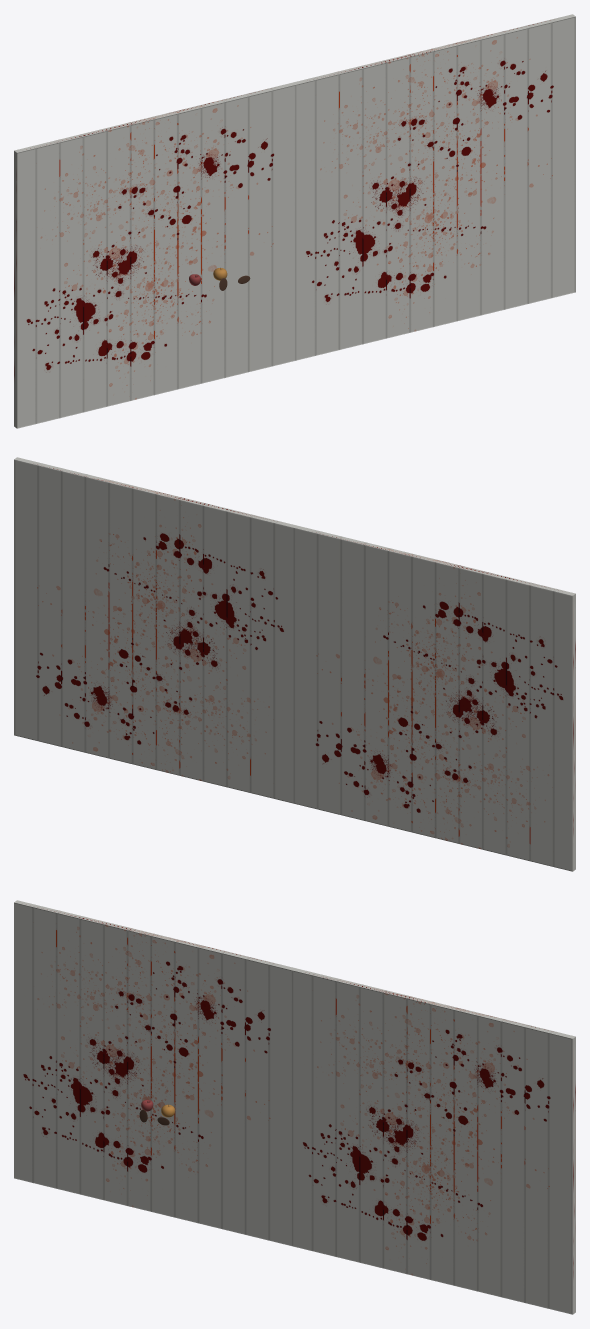
File: Bathroom_mirrors.fbx
3 renders of one model, top to bottom at view 1: azimuth 30°, elevation 25°; view 2: azimuth 150°, elevation 25°; view 3: azimuth 330°, elevation 25°, orthographic.
Visible parts, largest first — view 1: pCube3; view 2: pCube3; view 3: pCube3.
Boxes of the visible parts, box(x1,y1,x2,y2) form: pCube3: box(14, 14, 575, 428); pCube3: box(14, 457, 575, 871); pCube3: box(14, 900, 575, 1314).
Size of the model in its own units: 122 by 57.75 by 15.93.
